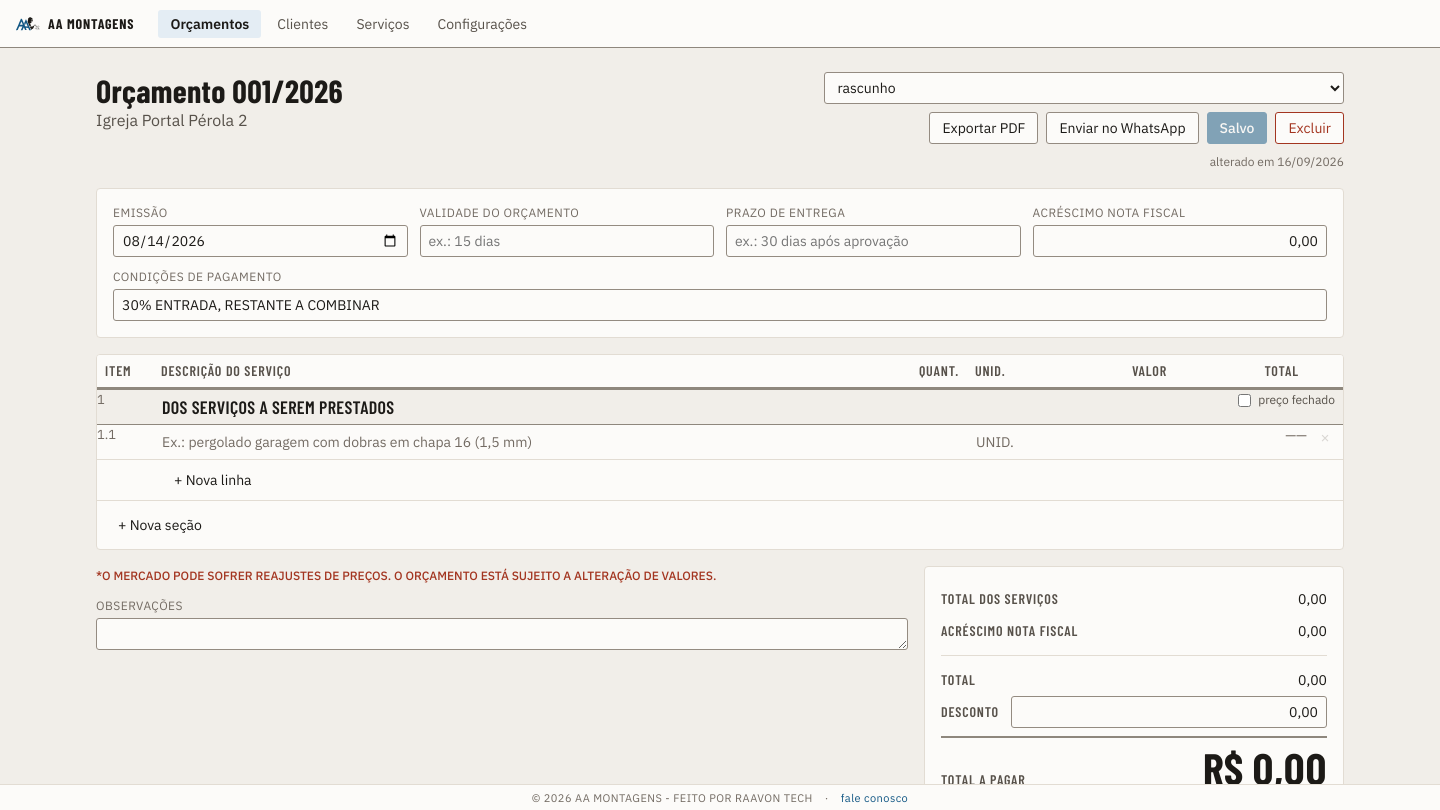
Test: excluir orçamento › pede confirmação antes de excluir
Expected: the heading "Orçamento 001/2026" is shown, [96,71,343,109]
Click the button with aria-label "Excluir o orçamento 001/2026" at (1310, 128), box [1276,112,1344,144]
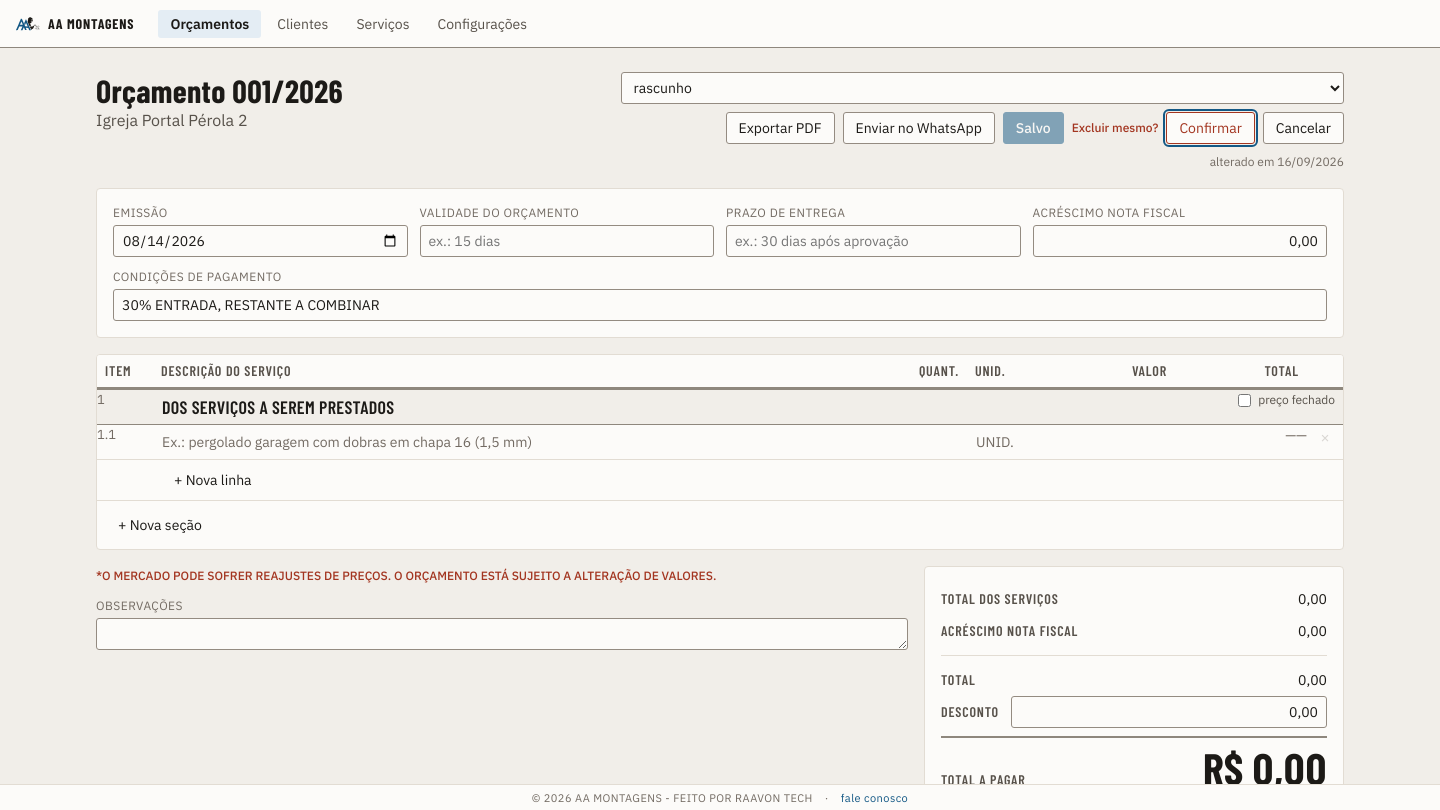
Expected: the text "Excluir mesmo?" is shown, [1072,118,1158,138]
